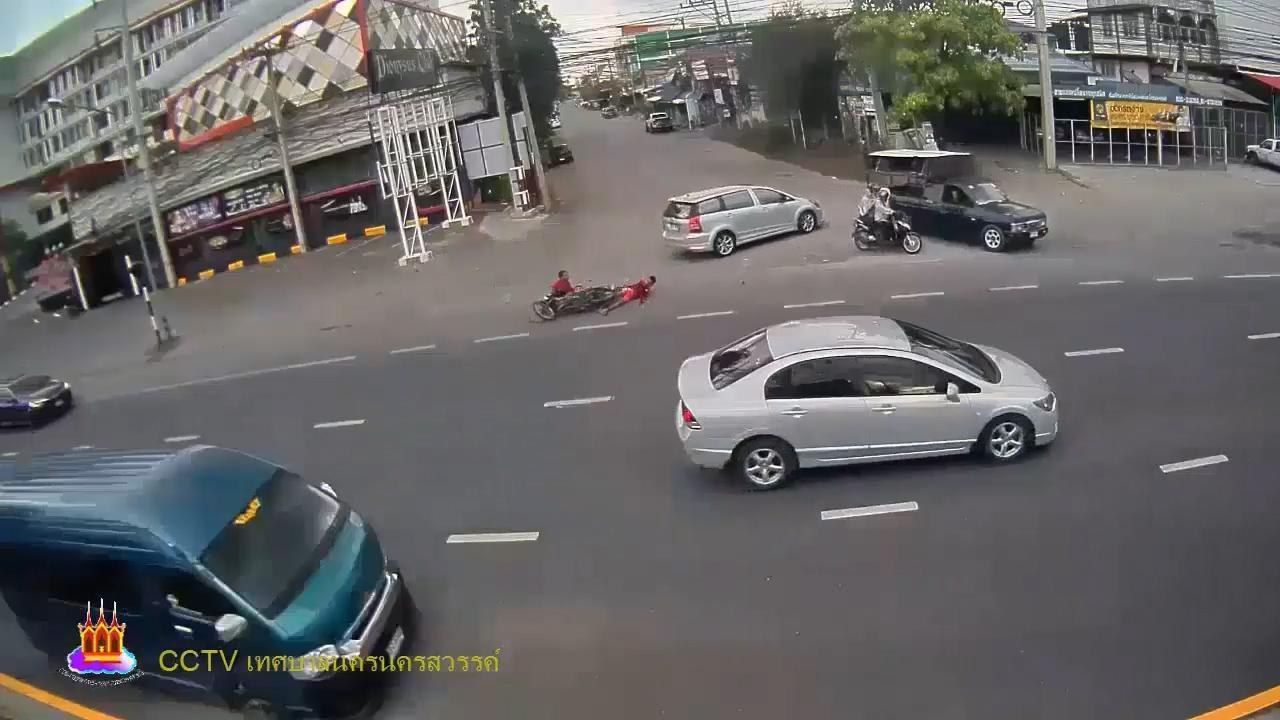accident: (600, 273, 657, 320)
